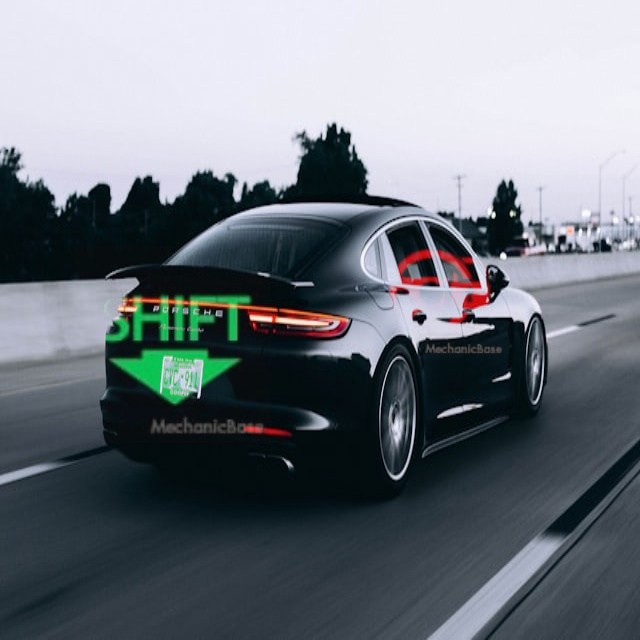symbol: (74, 246, 271, 443), (373, 226, 507, 360)
